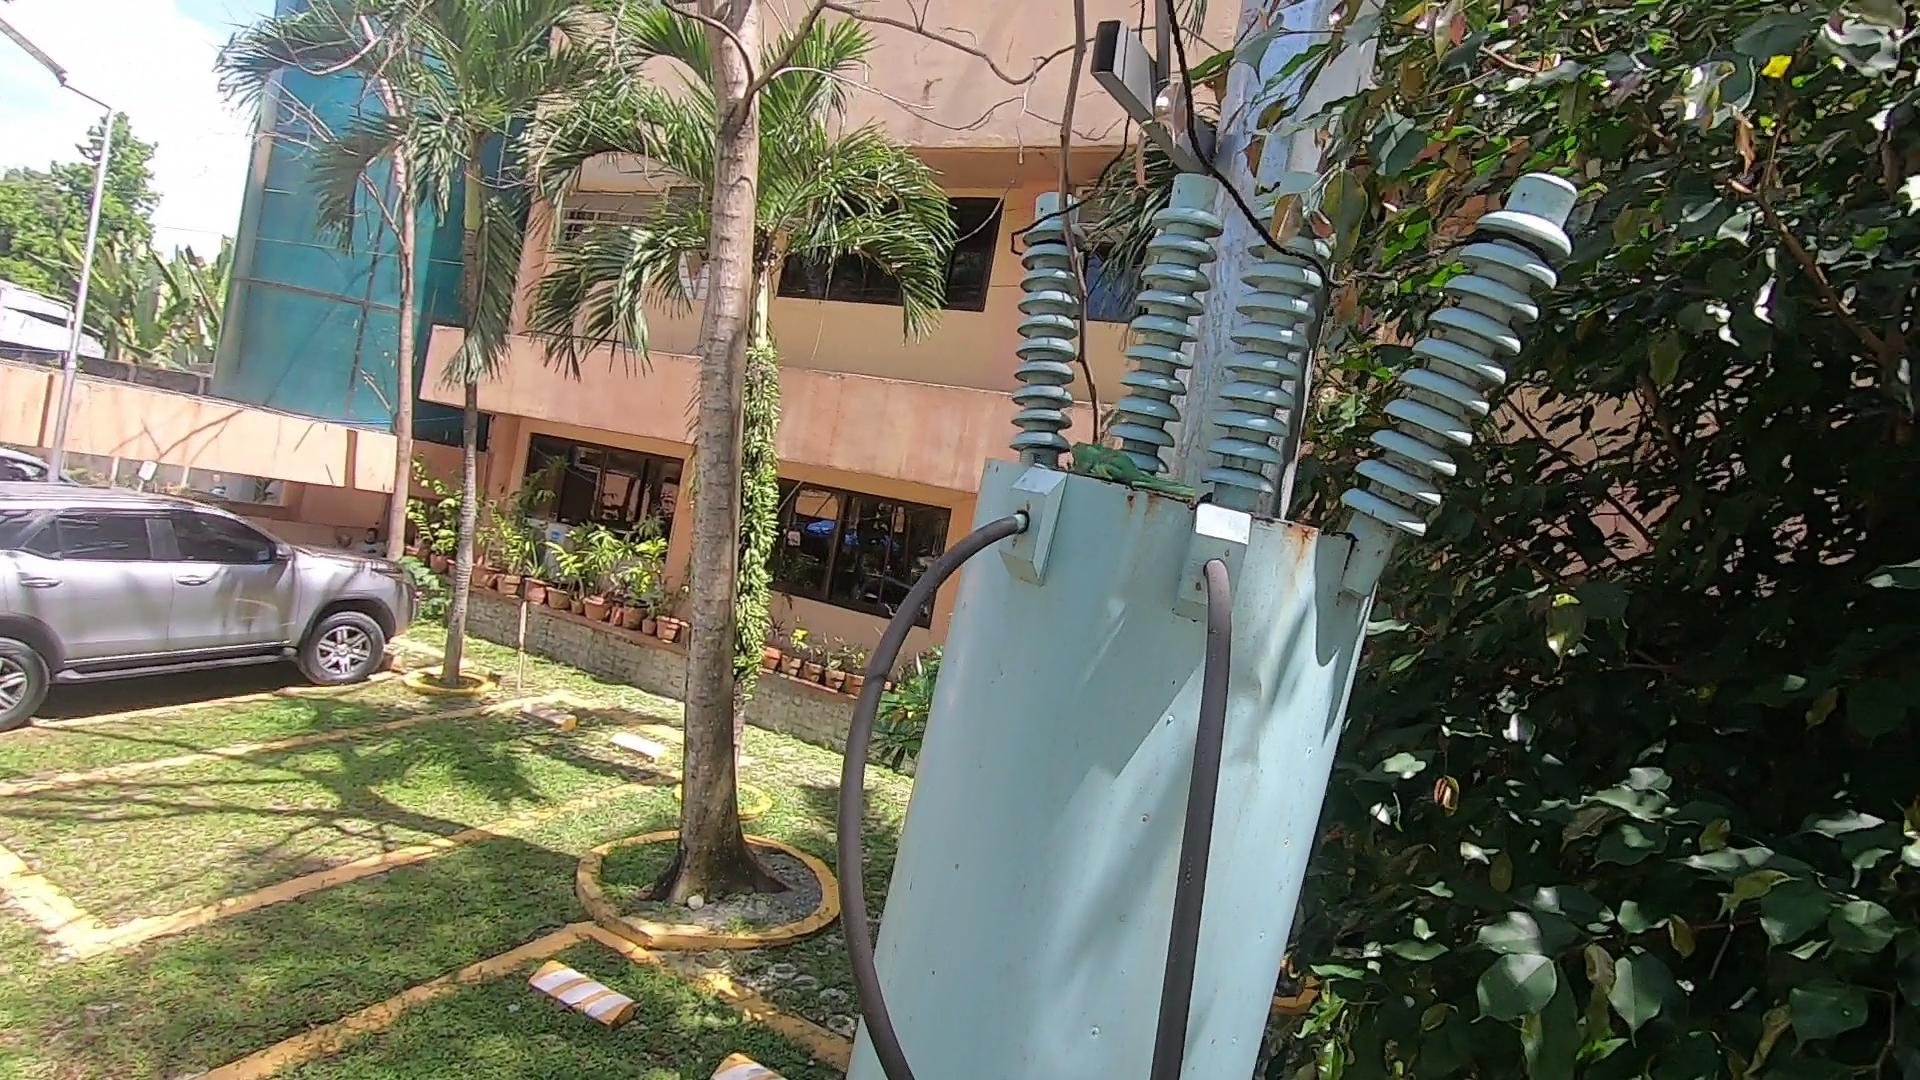branch with leaves: (1168, 55, 1481, 289)
tree branch: (1036, 12, 1199, 452)
